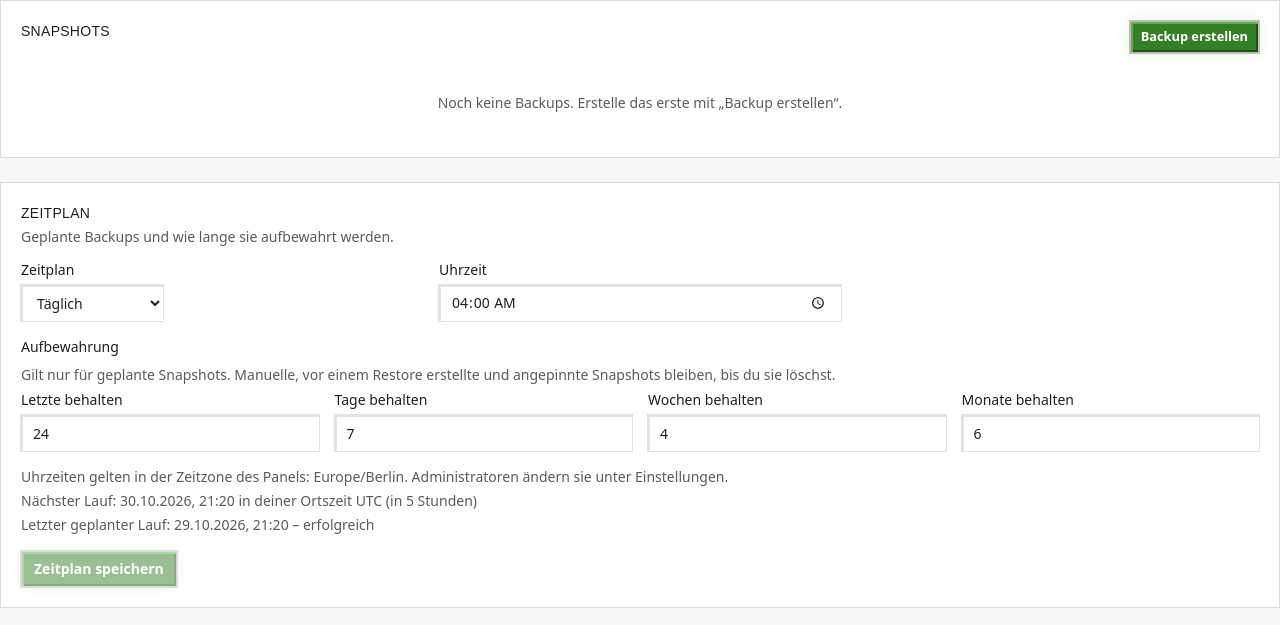
Test: schedule card › saves a weekly schedule and keeps the hidden interval
Expected: the button "Zeitplan speichern" is disabled, [21,551,177,587]
Select "Wöchentlich" in the dropdown labelled "Zeitplan" at (92, 303), box [21,285,163,321]
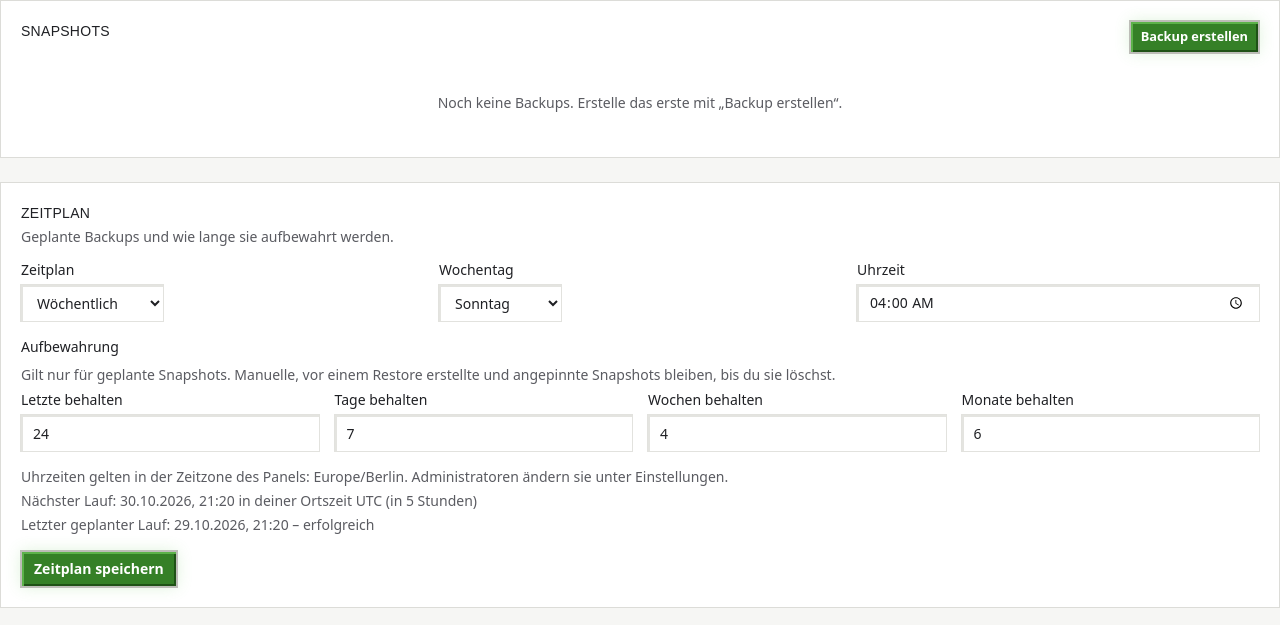
Select "Samstag" in the dropdown labelled "Wochentag" at (500, 303), box [439,285,561,321]
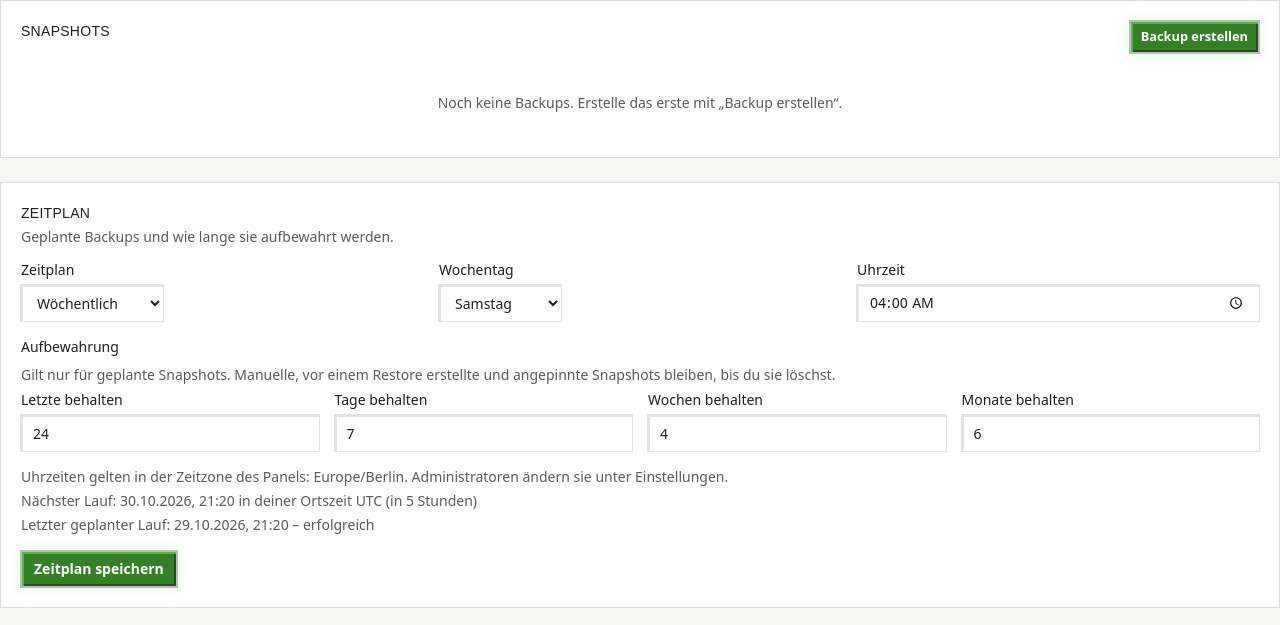
Replace the text in the time field labelled "Uhrzeit" with "03:15" at (1058, 303), box [857,285,1259,321]
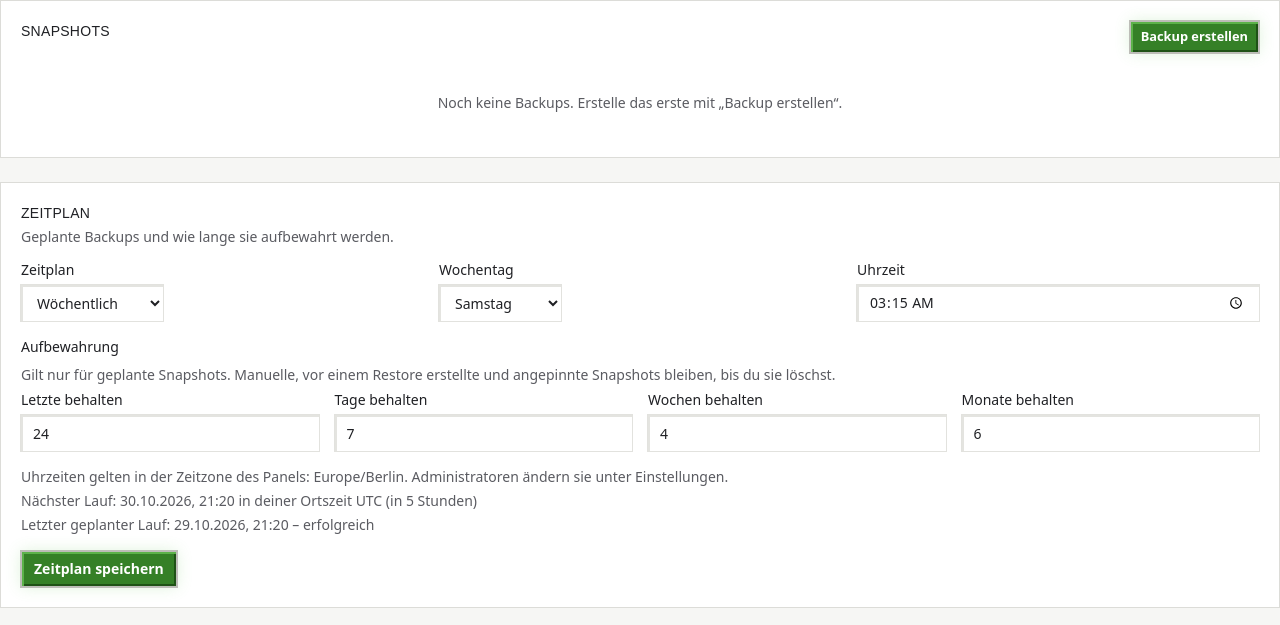
Replace the text in the number field labelled "Monate behalten" with "12" at (1110, 433), box [962,415,1259,451]
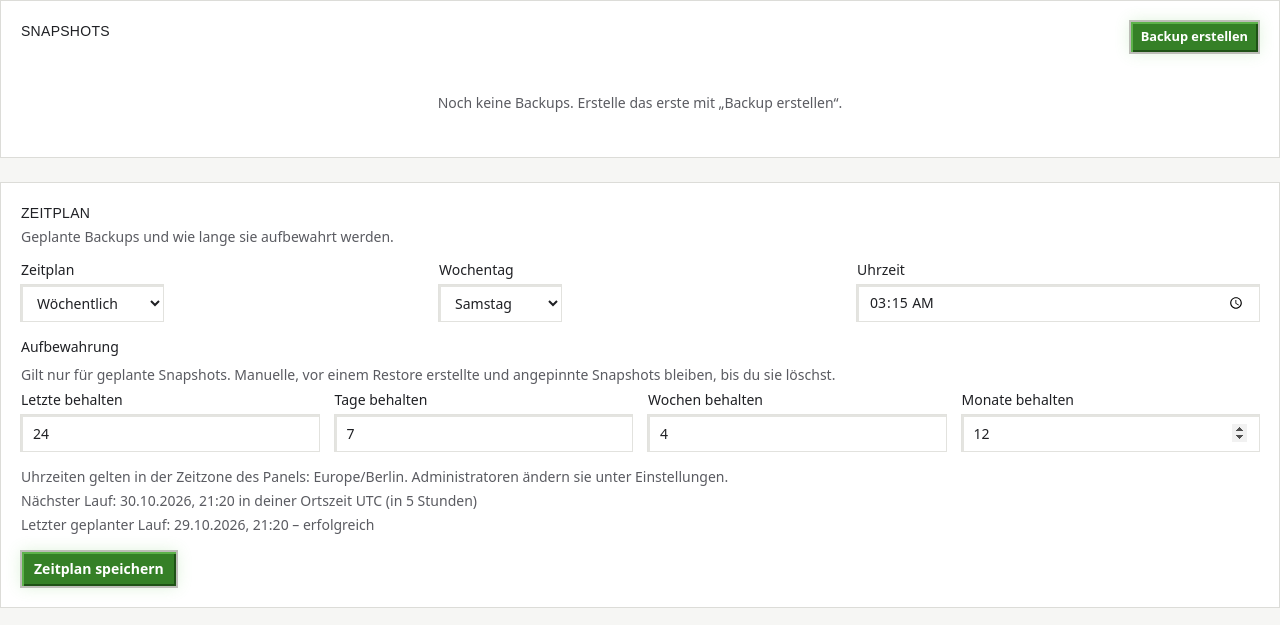
Click the button "Zeitplan speichern" at (99, 569), box [21,551,177,587]
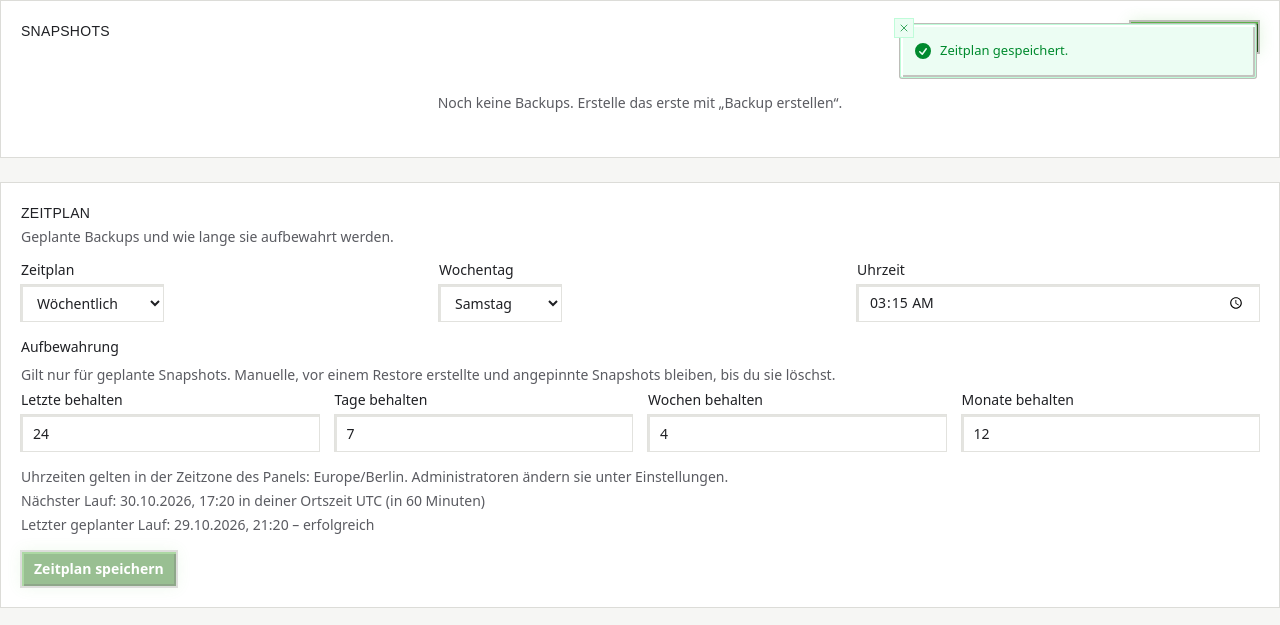
Result: the text "Zeitplan gespeichert." is shown at [940,41,1068,60]
Result: the button "Zeitplan speichern" is disabled at [21,551,177,587]
